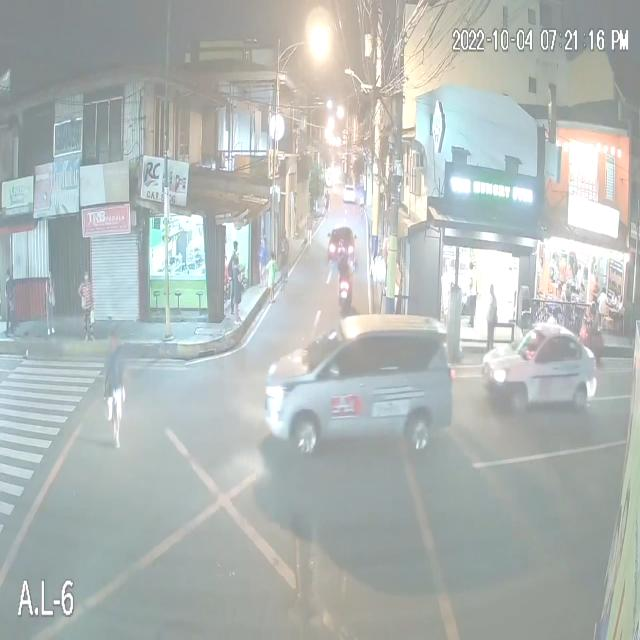Full-Faced: (586, 298, 600, 316)
